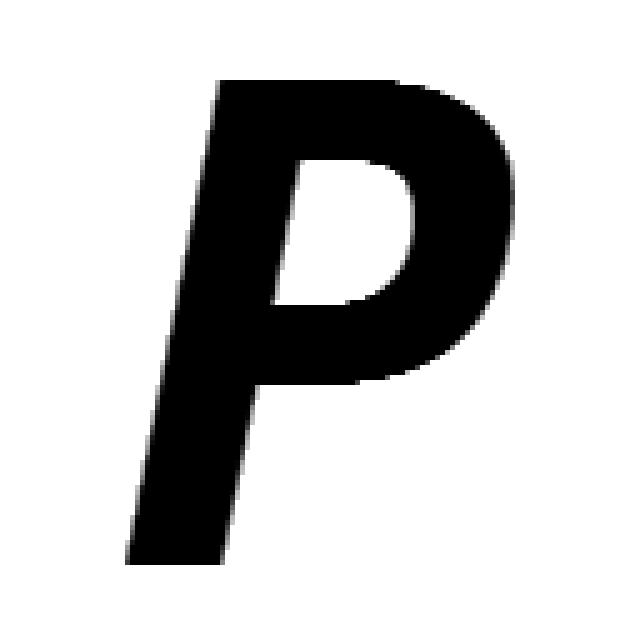P: (130, 80, 515, 570)
